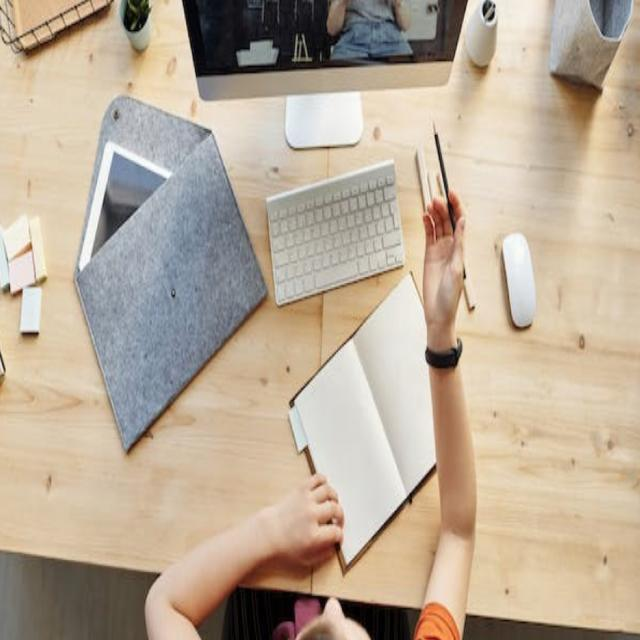Watch: (424, 336, 466, 371)
